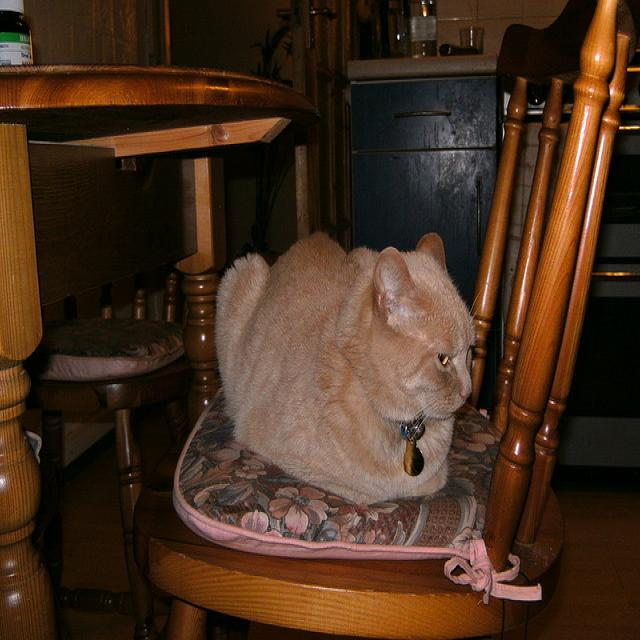chair: (133, 0, 632, 632), (23, 143, 186, 640)
dining table: (1, 63, 313, 631)
